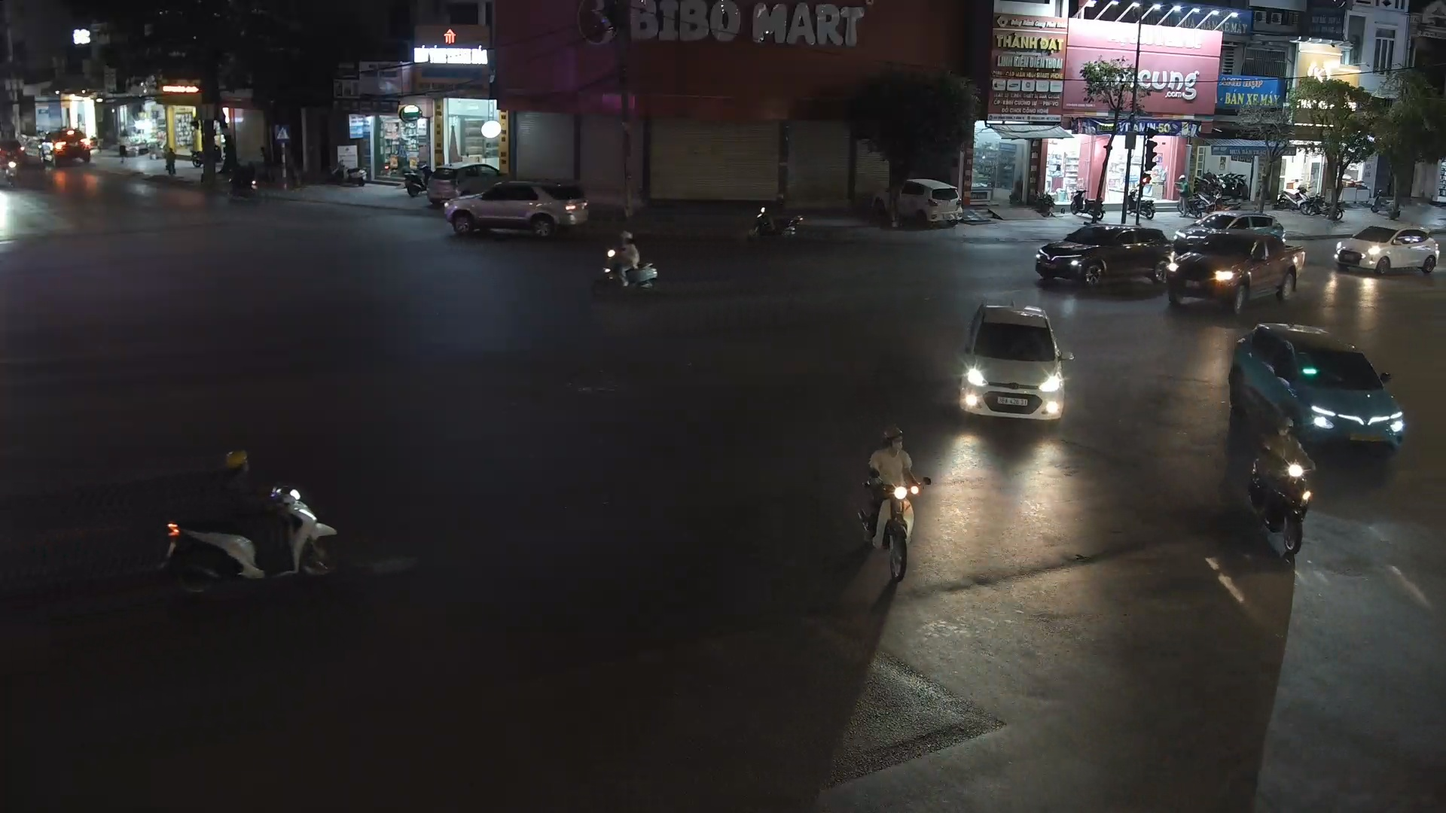car: (1227, 320, 1406, 456), (957, 299, 1071, 425), (1166, 225, 1302, 314), (1034, 224, 1182, 293), (445, 176, 588, 239), (1334, 222, 1441, 278)
motorbike: (161, 446, 340, 595), (856, 423, 933, 586), (1247, 444, 1314, 559), (590, 229, 662, 298)
